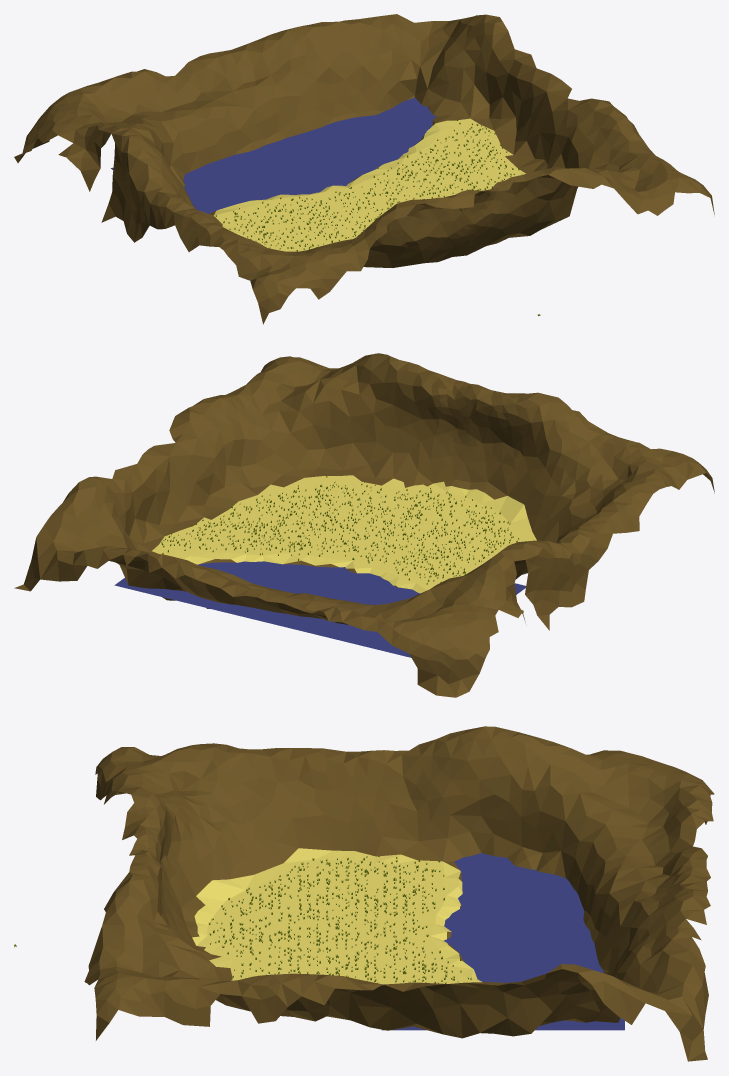
The model's file is Hub Terrain 1.fbx.
3 views of the same model, one above another, from view 1: azimuth 30°, elevation 25°; view 2: azimuth 150°, elevation 25°; view 3: azimuth 270°, elevation 25° (orthographic). The views are drawn at different scales.
Visible parts, largest first — view 1: Plane; view 2: Plane; view 3: Plane.
Part boxes in pixels (box(x1,y1,x2,y2)): Plane: box(14, 14, 714, 324); Plane: box(14, 353, 714, 697); Plane: box(84, 726, 714, 1061).
Size of the model in its own units: 100 by 24.31 by 113.
